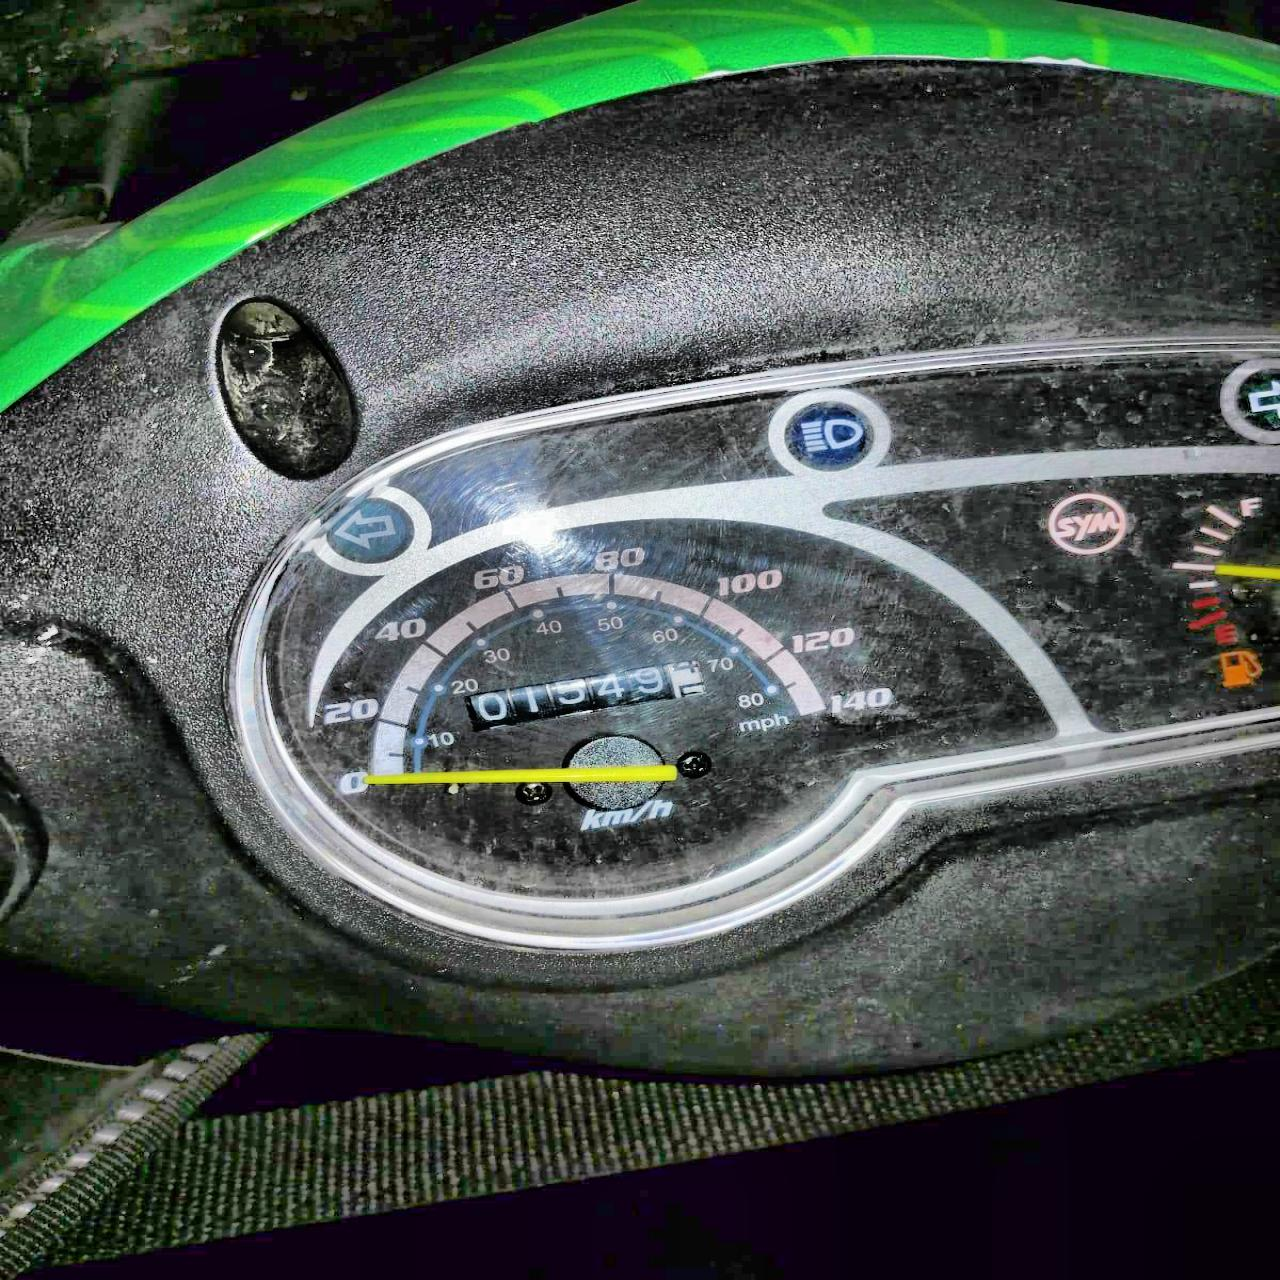0: (472, 692, 506, 723), (464, 673, 481, 692)
1: (516, 680, 540, 715)
4: (593, 668, 626, 701), (670, 651, 701, 676)
5: (551, 674, 587, 704)
9: (633, 665, 666, 694)
odometer: (462, 658, 707, 733)
